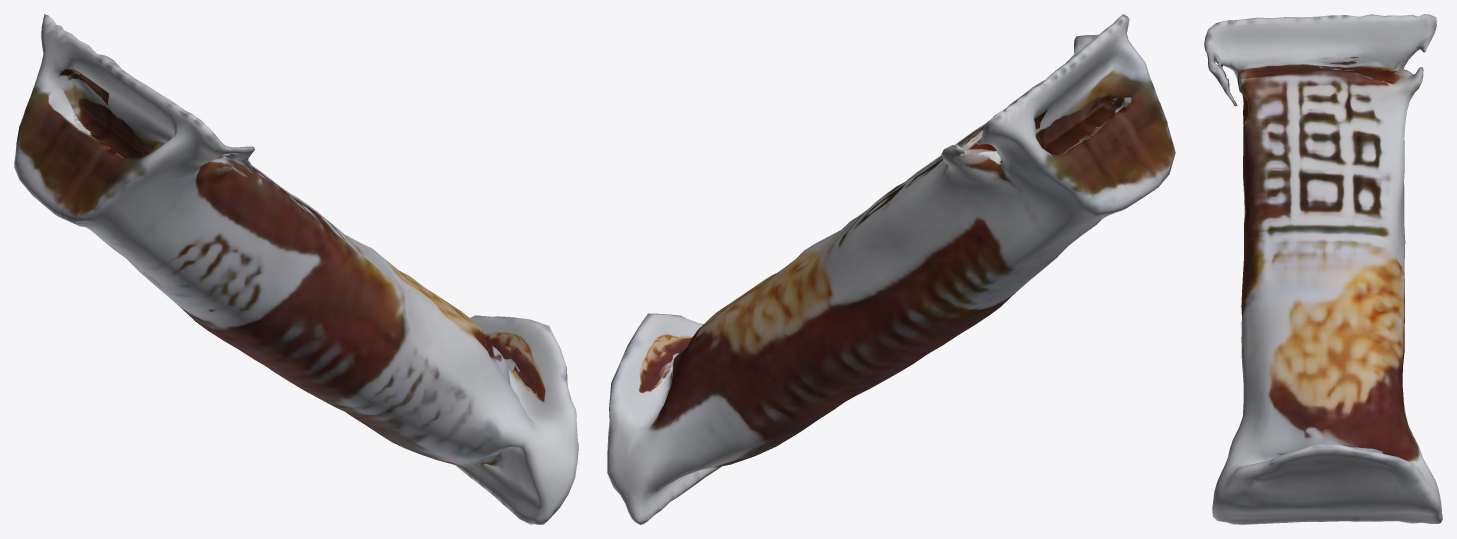
The model's file is protein_bar.fbx.
3 renders of one model, left to right at view 1: azimuth 30°, elevation 25°; view 2: azimuth 150°, elevation 25°; view 3: azimuth 270°, elevation 25°, orthographic. The views are drawn at different scales.
Visible parts, largest first — view 1: mesh; view 2: mesh; view 3: mesh.
Part boxes in pixels (x1=…): mesh: x1=14, y1=14, x2=578, y2=524; mesh: x1=607, y1=14, x2=1175, y2=524; mesh: x1=1204, y1=14, x2=1442, y2=524.
Bounding box in the file's own units: 99.58 × 94.34 × 53.65.
